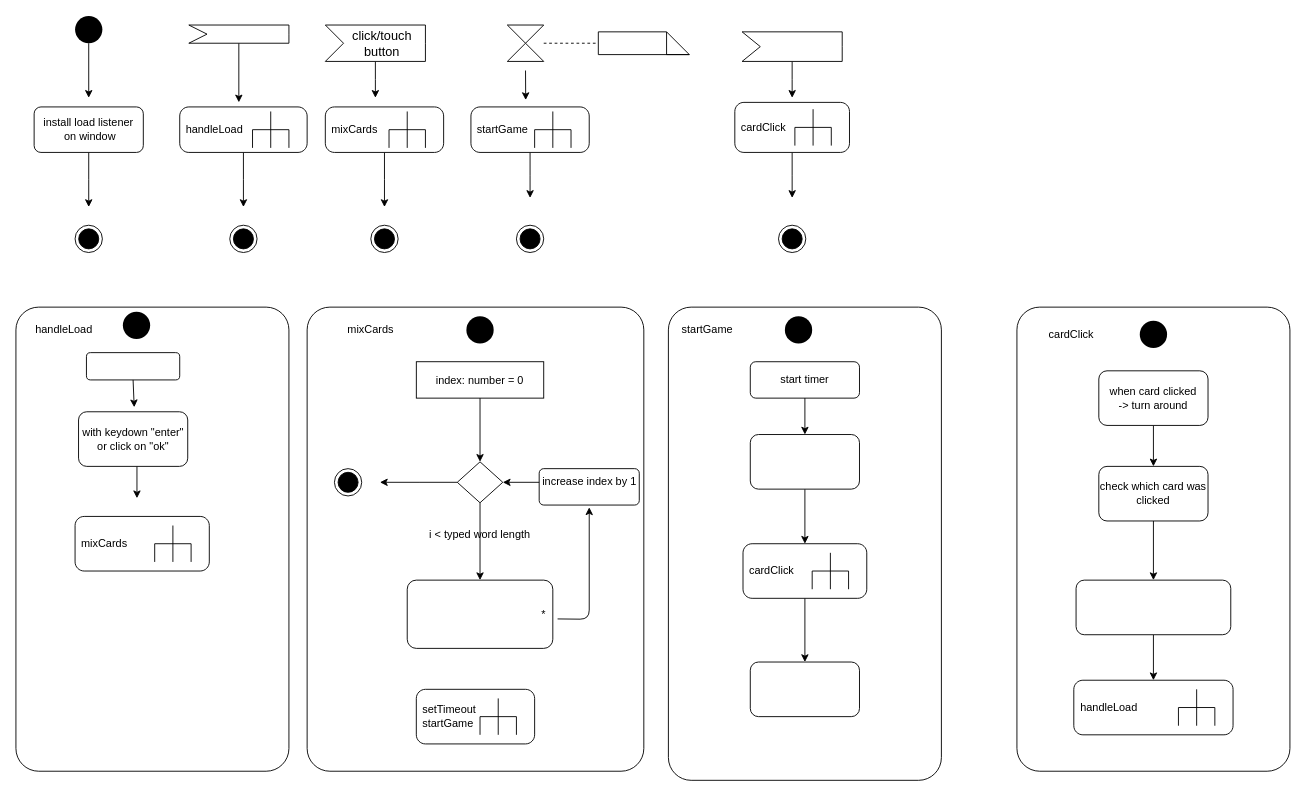
This 1306x796 diagram has some shape labels left out. Each missing label, with the centre of its shape:
after 1min: point 643,43
click/touch card(span): point 791,46
create Divs add classList + randomNumber splice array position: point 479,613
create prompt: point 133,366
install click listener on cards (spans): point 804,461
load: point 238,33
right card -> place below wrong card -> hide all cards; feedback: point 1153,607
time is up: point 804,689
